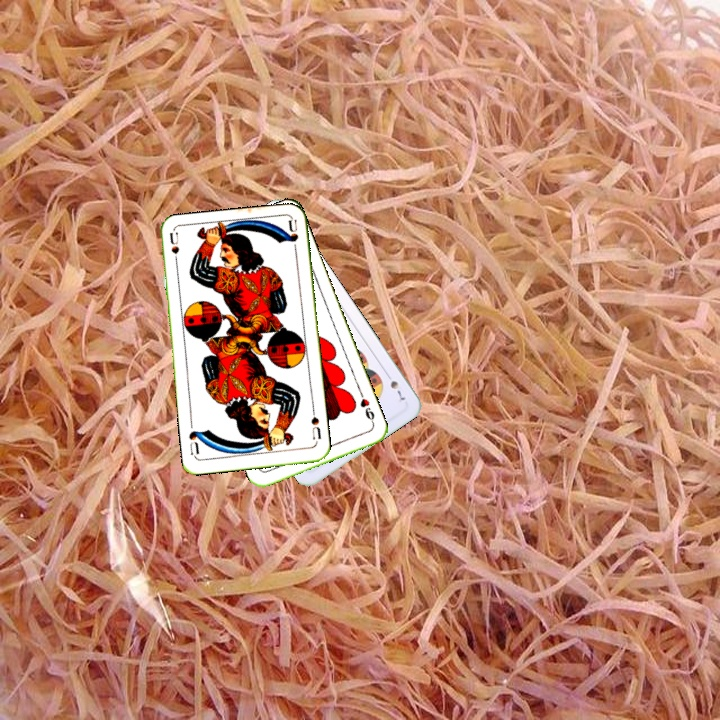H9: (356, 388, 377, 428)
S7: (382, 368, 408, 403)
SU: (307, 405, 324, 446), (166, 230, 182, 270)
